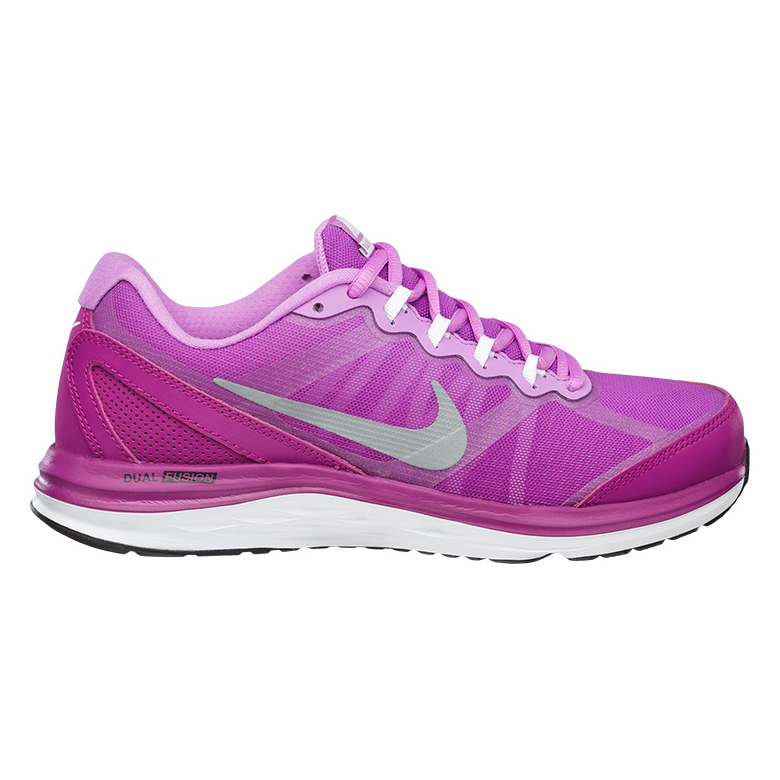Nike: (209, 372, 474, 472)
